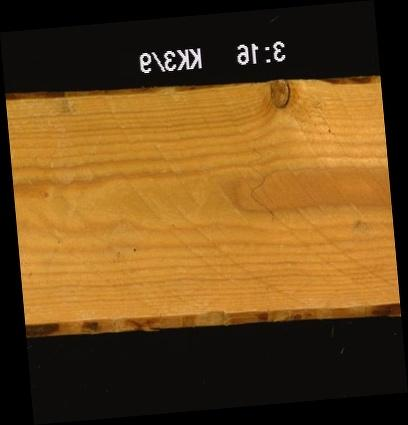edge_knot: (269, 78, 292, 109)
wave: (28, 302, 399, 335), (300, 72, 380, 93)
